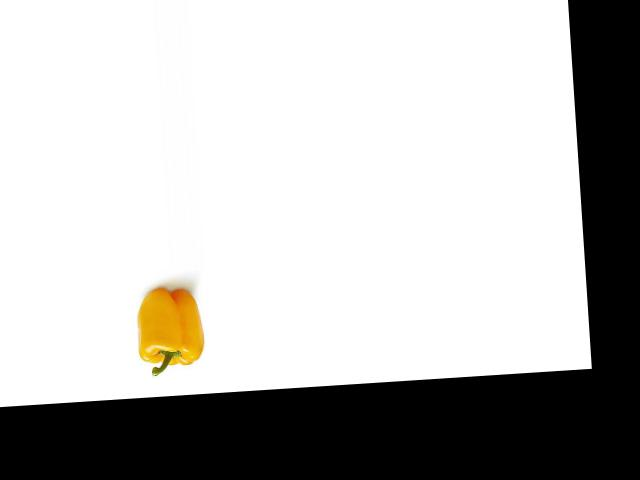bell_pepper: (126, 284, 207, 381)
